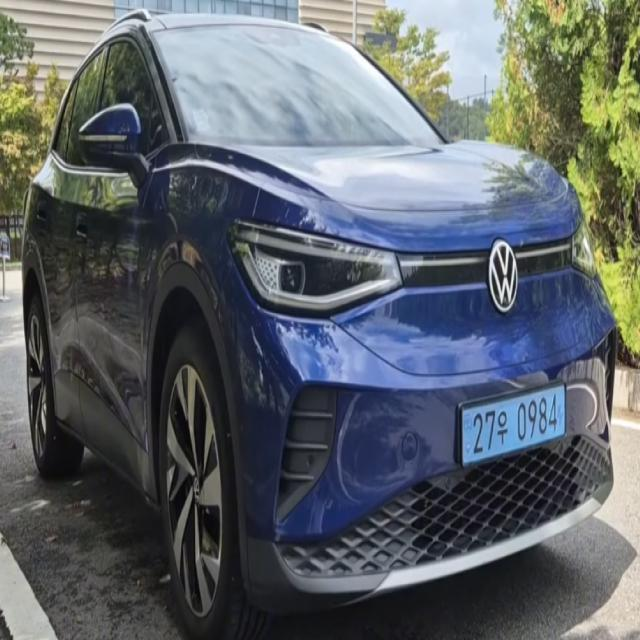car: (446, 375, 581, 477)
carev: (460, 405, 475, 469), (555, 383, 570, 445)
